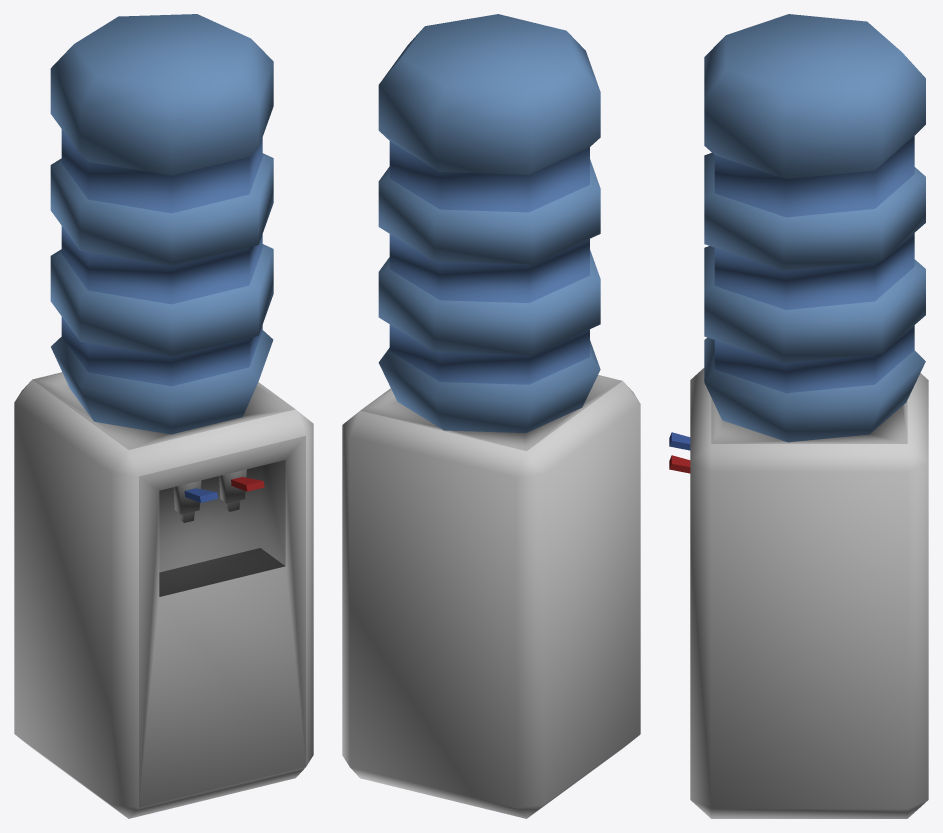
Rendered from water cooler.fbx.
3 renders of one model, left to right at view 1: azimuth 30°, elevation 25°; view 2: azimuth 150°, elevation 25°; view 3: azimuth 270°, elevation 25°, orthographic.
Visible parts, largest first — view 1: WaterCooler; view 2: WaterCooler; view 3: WaterCooler.
Boxes of the visible parts, box(x1,y1,x2,y2) form: WaterCooler: box(14, 14, 313, 818); WaterCooler: box(342, 14, 640, 818); WaterCooler: box(669, 14, 928, 818).
Bounding box in the file's own units: 0.3936 × 1.32 × 0.4281.
